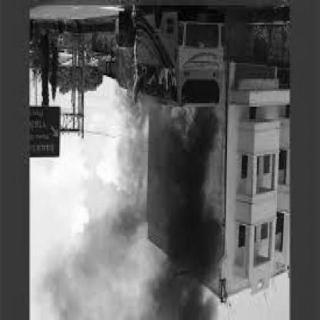Fire: (170, 102, 198, 140)
Smoke: (160, 116, 223, 320), (119, 113, 146, 240)
